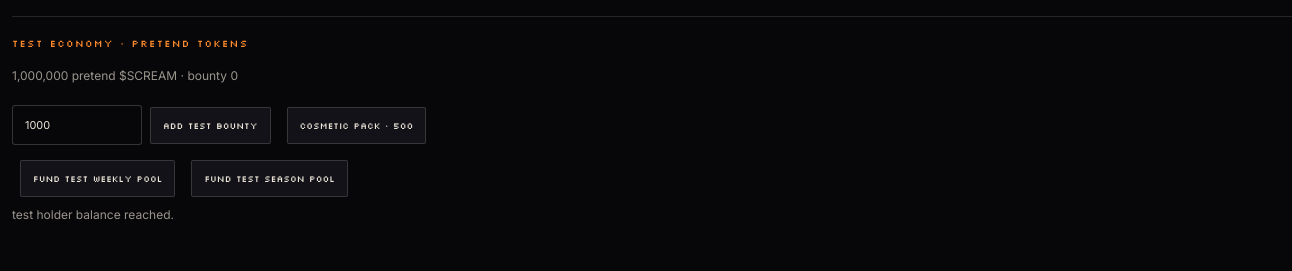
Test: allows correcting a rejected amount without keeping an uncertain operation
The image size is (1292, 271).
Click the button "ADD TEST BOUNTY".
click(210, 125)  # box [150,107,270,144]
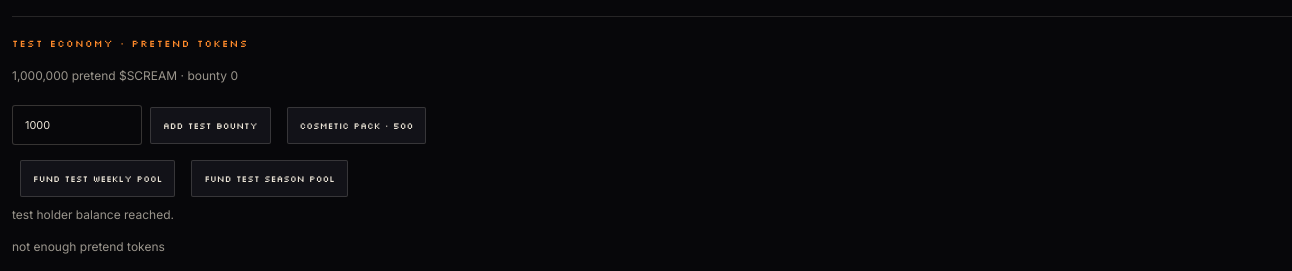
Expected: the number field named "Token amount" is enabled, [12,105,142,145]
Result: the text "not enough pretend tokens" is shown at [12,239,165,254]
